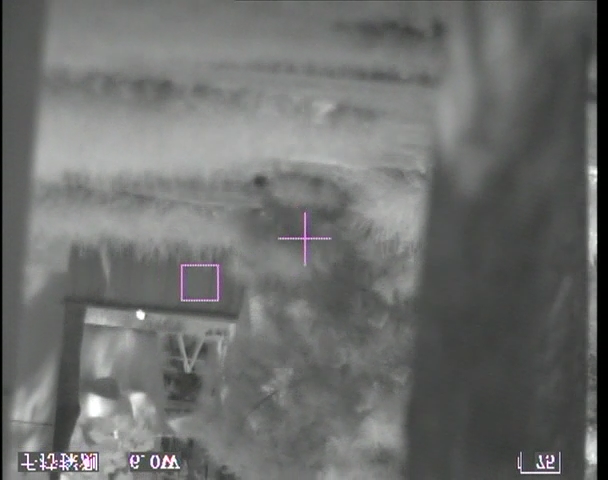my: (135, 308, 146, 321)
